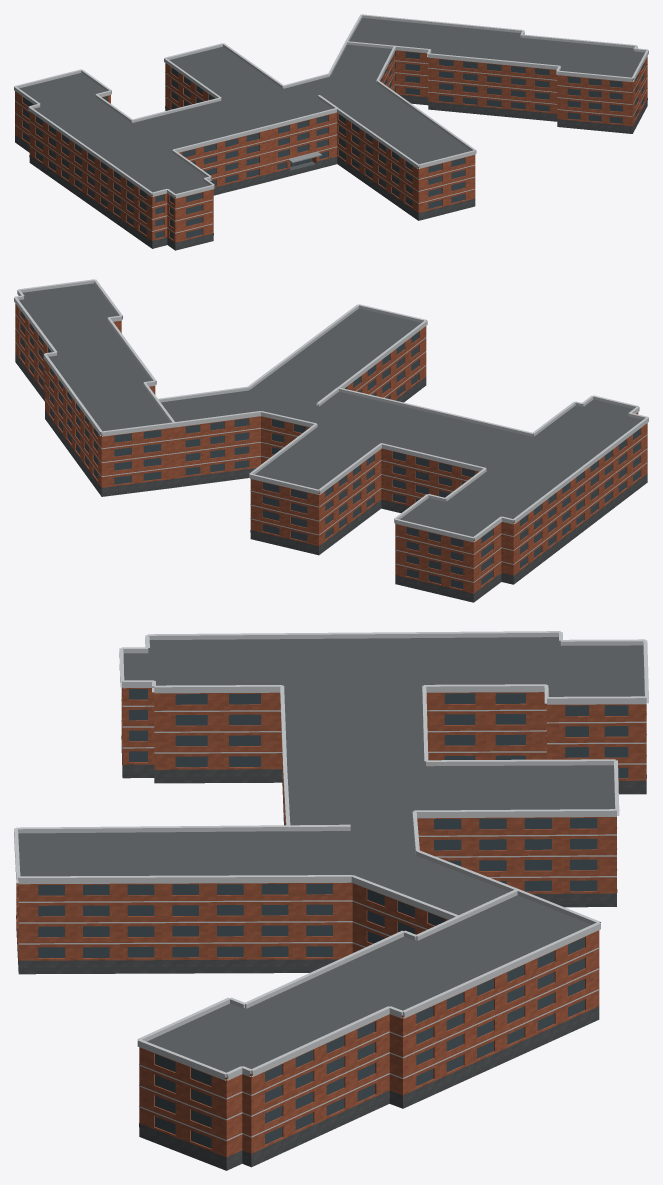
3 views of the same model, one above another, from view 1: azimuth 30°, elevation 25°; view 2: azimuth 150°, elevation 25°; view 3: azimuth 270°, elevation 25° (orthographic). The views are drawn at different scales.
Visible parts, largest first — view 1: appliedEng__roof, appliedEng__wall, appliedEng__trim, appliedEng__glass, appliedEng__base; view 2: appliedEng__roof, appliedEng__wall, appliedEng__trim, appliedEng__glass, appliedEng__base; view 3: appliedEng__roof, appliedEng__wall, appliedEng__trim, appliedEng__glass, appliedEng__base.
Boxes of the visible parts, x1,y1,x2,y2 form: appliedEng__roof: (19,18,644,196); appliedEng__wall: (15,50,647,242); appliedEng__trim: (14,14,648,233); appliedEng__glass: (22,51,644,239); appliedEng__base: (15,94,647,250); appliedEng__roof: (19,283,642,540); appliedEng__wall: (15,303,647,595); appliedEng__trim: (14,279,648,582); appliedEng__glass: (20,310,640,589); appliedEng__base: (15,353,647,602); appliedEng__roof: (18,637,644,1077); appliedEng__wall: (16,684,646,1160); appliedEng__trim: (14,631,648,1140); appliedEng__glass: (38,689,628,1148); appliedEng__base: (16,736,646,1170).
Bounding box in the file's own units: 178 × 18.2 × 108.
8 materials, 2 textured.
